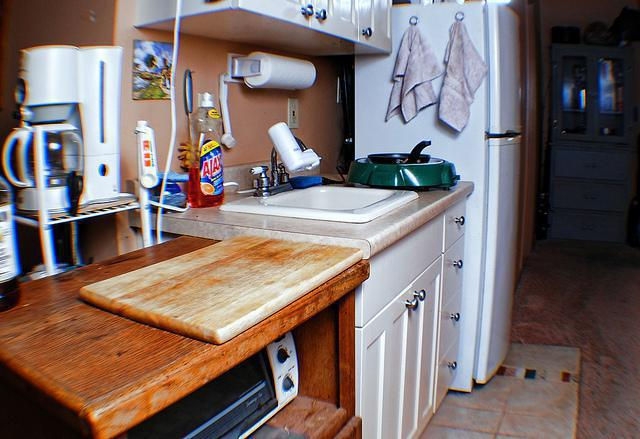Lavaplatos: (208, 114, 423, 237)
